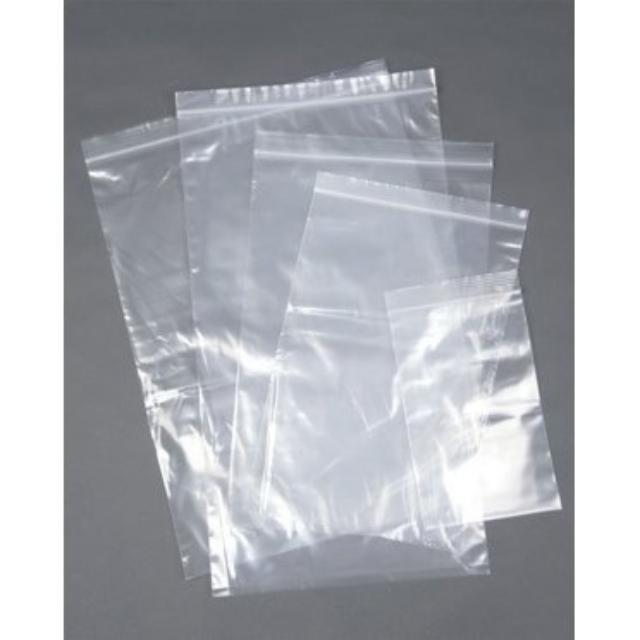plastic: (82, 62, 560, 595)
